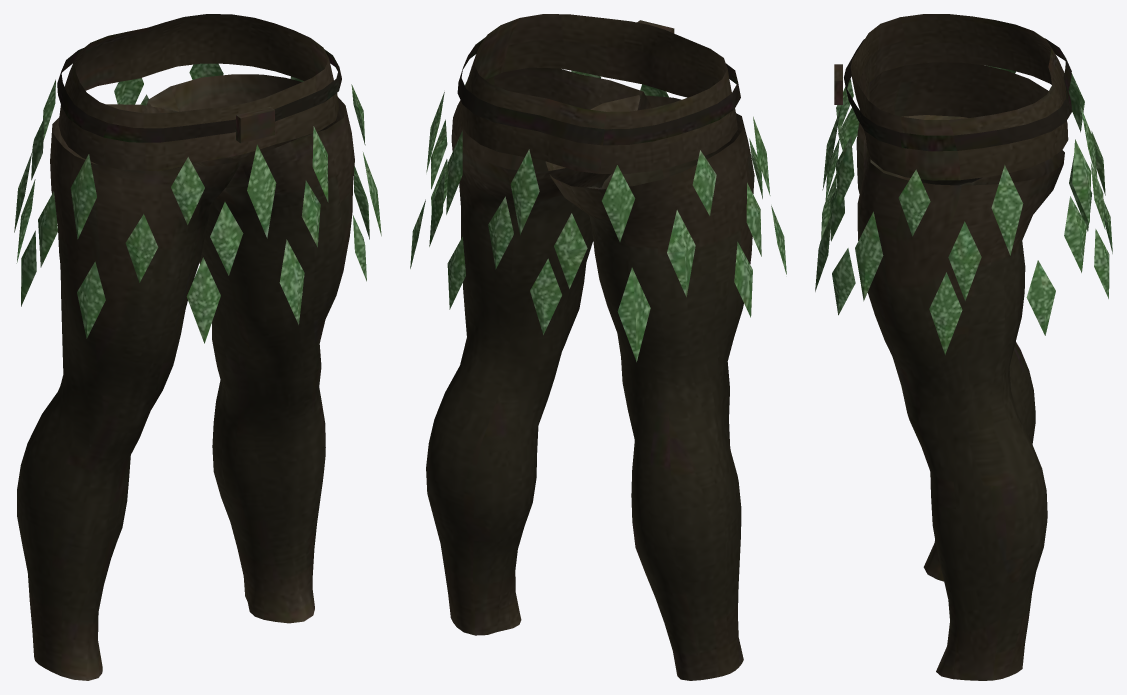
The model's file is Calça_do_Patrulheiro_nivel50.glb.
3 views of the same model, side by side, from view 1: azimuth 30°, elevation 25°; view 2: azimuth 150°, elevation 25°; view 3: azimuth 270°, elevation 25° (orthographic). The views are drawn at different scales.
Visible parts, largest first — view 1: calca_do_patrulheiro_nivel50; view 2: calca_do_patrulheiro_nivel50; view 3: calca_do_patrulheiro_nivel50.
Boxes of the visible parts, x1=… form: calca_do_patrulheiro_nivel50: x1=14, y1=14, x2=381, y2=680; calca_do_patrulheiro_nivel50: x1=410, y1=14, x2=786, y2=680; calca_do_patrulheiro_nivel50: x1=815, y1=14, x2=1112, y2=680.
Bounding box in the file's own units: 0.5057 × 0.8351 × 0.4015.
1 material, 1 textured.
